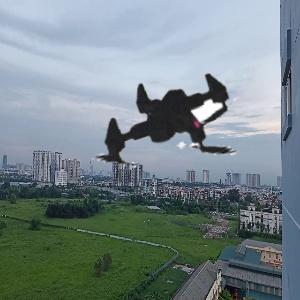drone: (62, 25, 280, 243)
